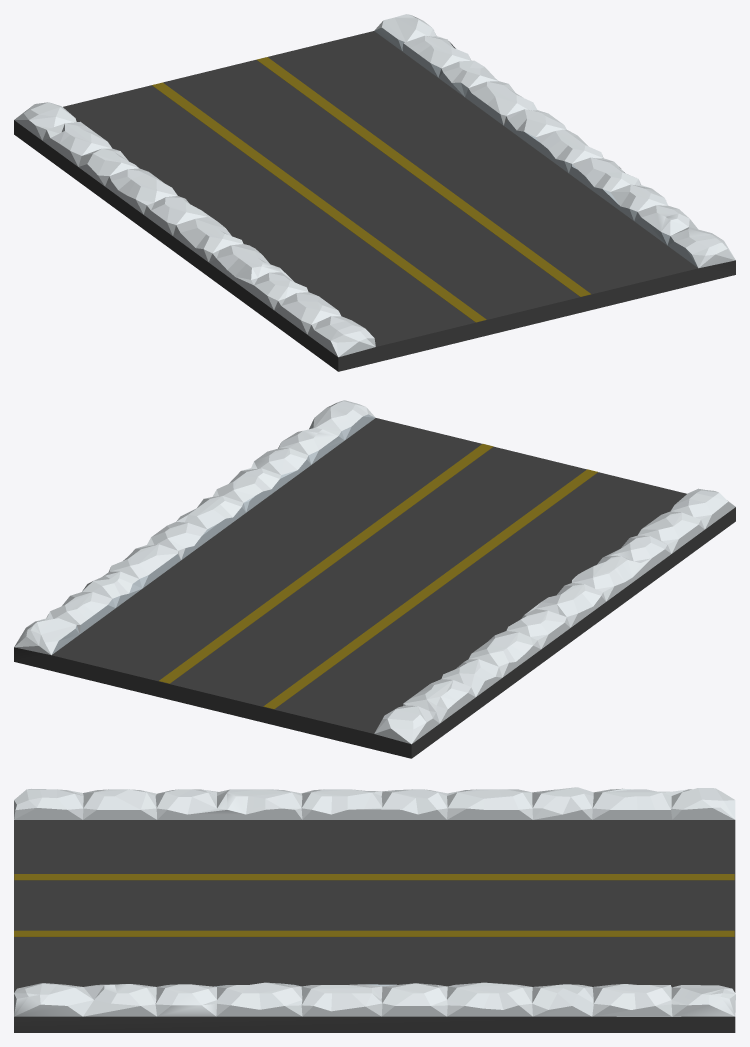
The model's file is Road.fbx.
3 views of the same model, one above another, from view 1: azimuth 30°, elevation 25°; view 2: azimuth 150°, elevation 25°; view 3: azimuth 270°, elevation 25° (orthographic). The views are drawn at different scales.
Parts seen in each view (by area): view 1: Road; view 2: Road; view 3: Road.
Boxes of the visible parts, left/top/right/bottom form: Road: left=14, top=14, right=735, bottom=371; Road: left=14, top=400, right=735, bottom=758; Road: left=14, top=787, right=735, bottom=1032.
Bounding box in the file's own units: 471 × 34.86 × 666.
1 material, 1 textured.
